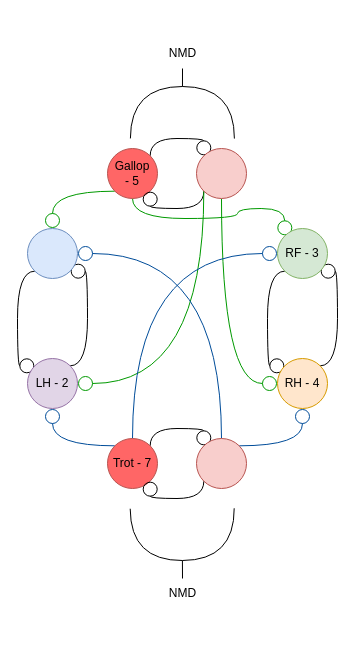
Image size: 355x648. Some labels were removed from this diagram. The shapes that lost their labels are listed below. From the top down, each one's centre as x and y in pixels, then its label:
At pixel 221 173: "Gallop - 6".
At pixel 52 253: "LF - 1".
At pixel 221 463: "Trot - 8".
